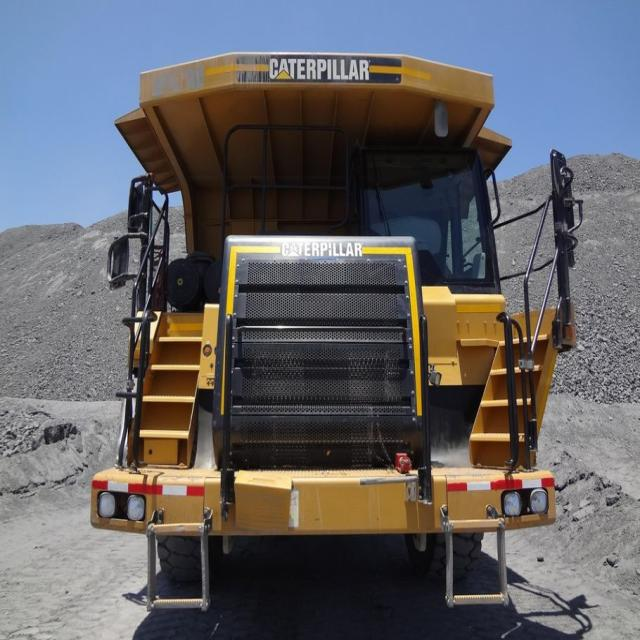dump_truck: (80, 42, 580, 602)
